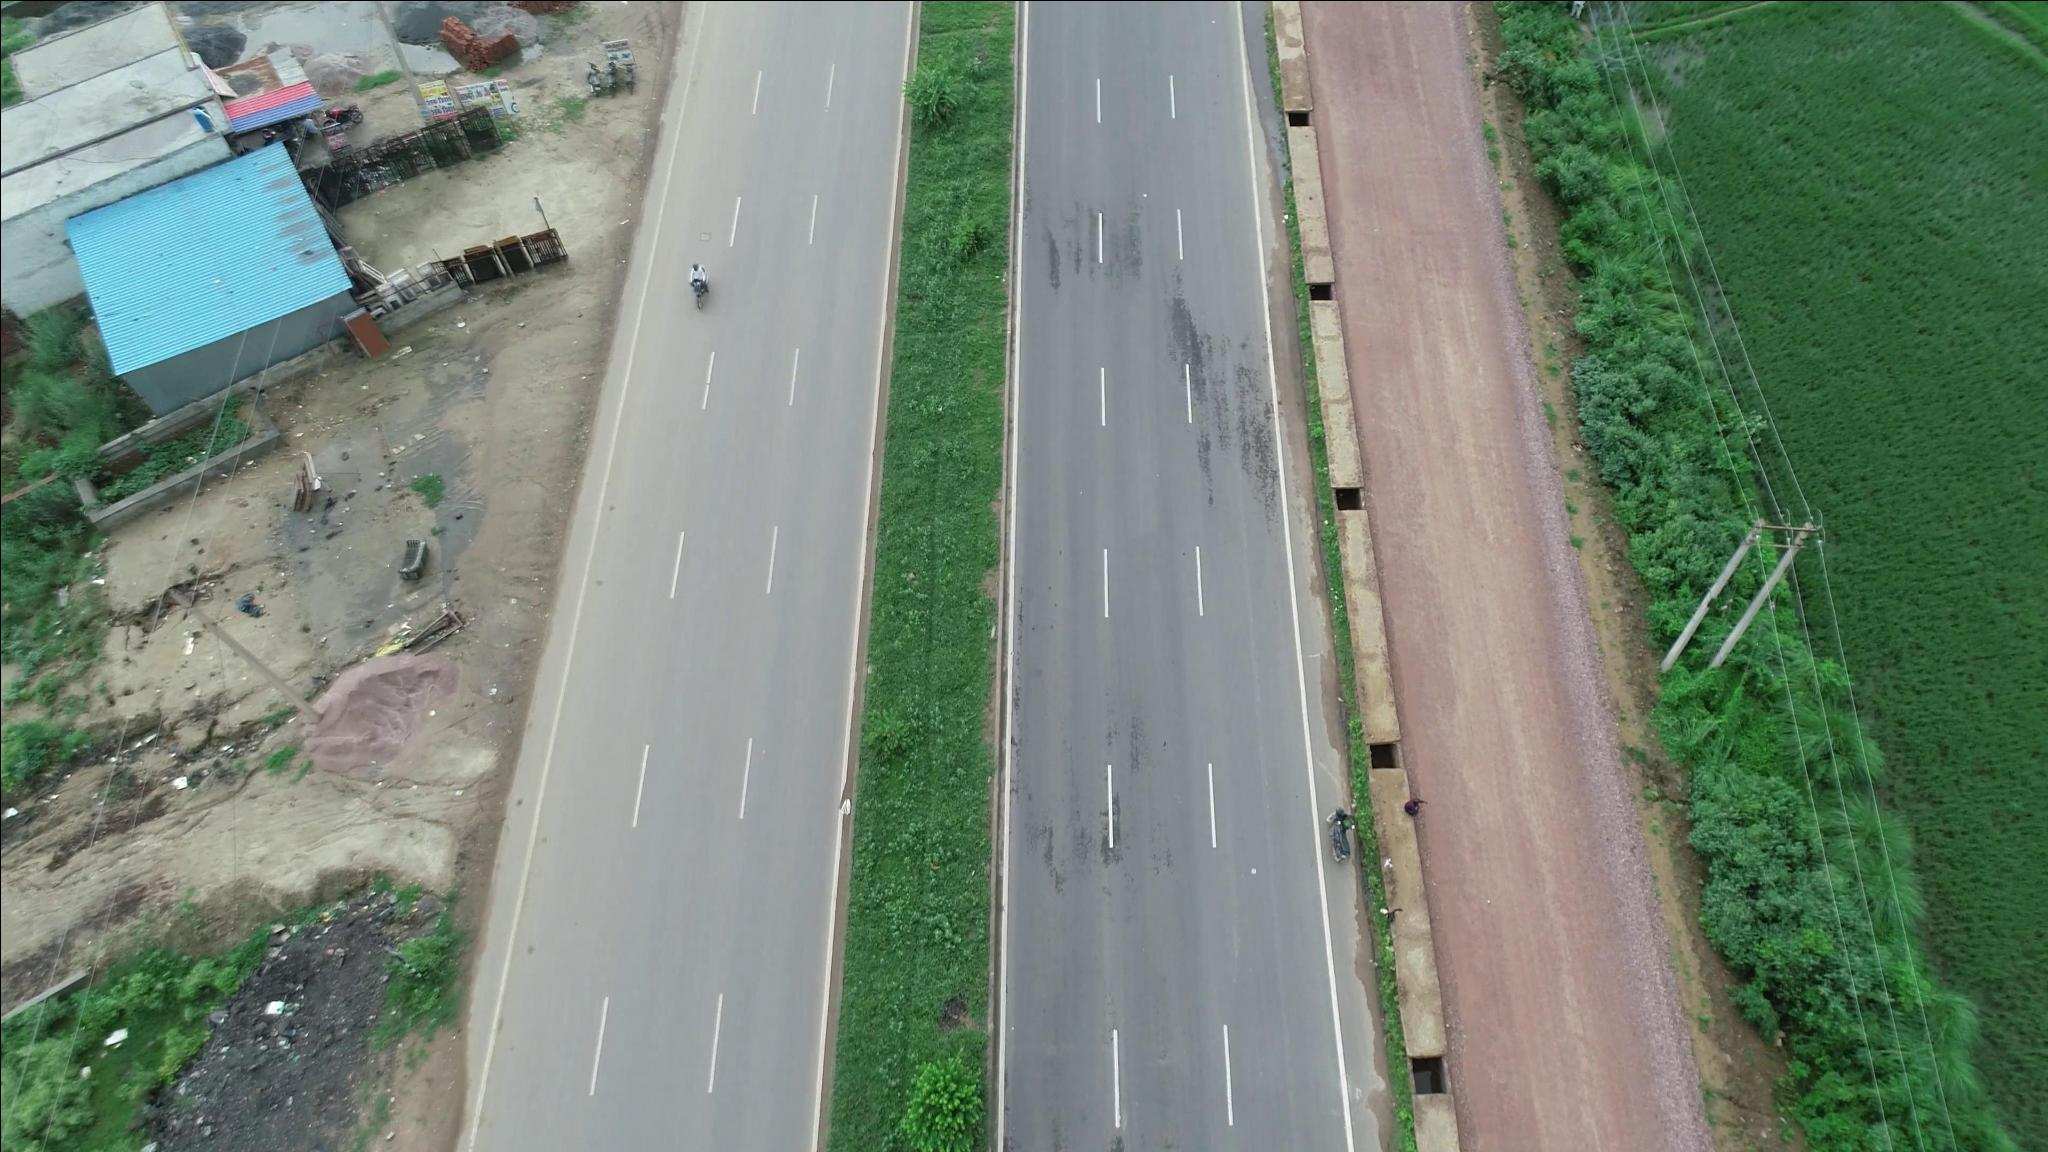Ravelling: (1173, 302, 1284, 504), (1037, 729, 1180, 876), (1037, 188, 1153, 298)
